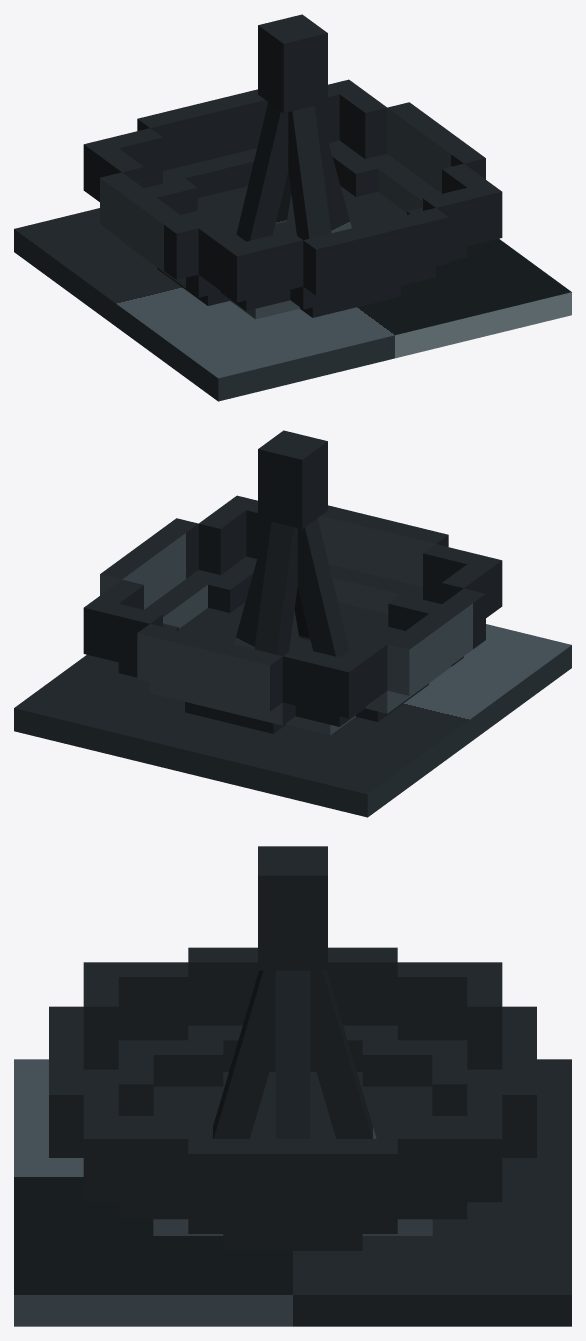
The model's file is player_detector.obj.
The picture shows the model from 3 angles, top to bottom: view 1: azimuth 30°, elevation 25°; view 2: azimuth 150°, elevation 25°; view 3: azimuth 270°, elevation 25°; orthographic projection. The views are drawn at different scales.
Parts seen in each view (by area): view 1: ModelDetector_Shape6, ModelDetector_Shape2c, ModelDetector_Shape2h, ModelDetector_Shape3g, ModelDetector_Shape5, ModelDetector_Shape3j, ModelDetector_Shape2p, ModelDetector_Shape4a, ModelDetector_Shape4c, ModelDetector_Shape2a, ModelDetector_Shape1, ModelDetector_Shape3a (+16 smaller); view 2: ModelDetector_Shape6, ModelDetector_Shape2h, ModelDetector_Shape2c, ModelDetector_Shape3g, ModelDetector_Shape5, ModelDetector_Shape3j, ModelDetector_Shape2d, ModelDetector_Shape4a, ModelDetector_Shape4b, ModelDetector_Shape2, ModelDetector_Shape1, ModelDetector_Shape3e (+16 smaller); view 3: ModelDetector_Shape6, ModelDetector_Shape3j, ModelDetector_Shape3g, ModelDetector_Shape1, ModelDetector_Shape5, ModelDetector_Shape4, ModelDetector_Shape4b, ModelDetector_Shape4c, ModelDetector_Shape3, ModelDetector_Shape3a, ModelDetector_Shape3d, ModelDetector_Shape3e (+19 smaller).
Boxes of the visible parts, x1,y1,x2,y2 form: ModelDetector_Shape6: (14, 208, 571, 401); ModelDetector_Shape2c: (303, 208, 448, 295); ModelDetector_Shape2h: (137, 89, 268, 170); ModelDetector_Shape3g: (100, 172, 198, 279); ModelDetector_Shape5: (258, 14, 327, 113); ModelDetector_Shape3j: (387, 102, 485, 193); ModelDetector_Shape2p: (224, 231, 303, 302); ModelDetector_Shape4a: (236, 102, 288, 241); ModelDetector_Shape4c: (288, 106, 331, 239); ModelDetector_Shape2a: (423, 182, 502, 250); ModelDetector_Shape1: (181, 186, 386, 319); ModelDetector_Shape3a: (339, 89, 387, 159); ModelDetector_Shape6: (14, 624, 571, 817); ModelDetector_Shape2h: (137, 624, 282, 711); ModelDetector_Shape2c: (317, 505, 448, 586); ModelDetector_Shape3g: (387, 588, 485, 695); ModelDetector_Shape5: (258, 430, 327, 529); ModelDetector_Shape3j: (100, 518, 198, 609); ModelDetector_Shape2d: (282, 647, 361, 718); ModelDetector_Shape4a: (297, 518, 349, 657); ModelDetector_Shape4b: (254, 522, 297, 655); ModelDetector_Shape2: (83, 598, 162, 666); ModelDetector_Shape1: (199, 602, 404, 735); ModelDetector_Shape3e: (198, 505, 246, 575); ModelDetector_Shape6: (14, 1059, 571, 1326); ModelDetector_Shape3j: (188, 1139, 397, 1216); ModelDetector_Shape3g: (188, 947, 397, 1025); ModelDetector_Shape1: (153, 1086, 432, 1235); ModelDetector_Shape5: (258, 846, 327, 970); ModelDetector_Shape4: (275, 970, 310, 1138); ModelDetector_Shape4b: (310, 970, 376, 1138); ModelDetector_Shape4c: (209, 970, 275, 1138); ModelDetector_Shape3: (397, 962, 467, 1040); ModelDetector_Shape3a: (397, 1124, 467, 1202); ModelDetector_Shape3d: (118, 962, 188, 1040); ModelDetector_Shape3e: (118, 1124, 188, 1202).
Size of the model in its own units: 1 by 0.6875 by 1.
